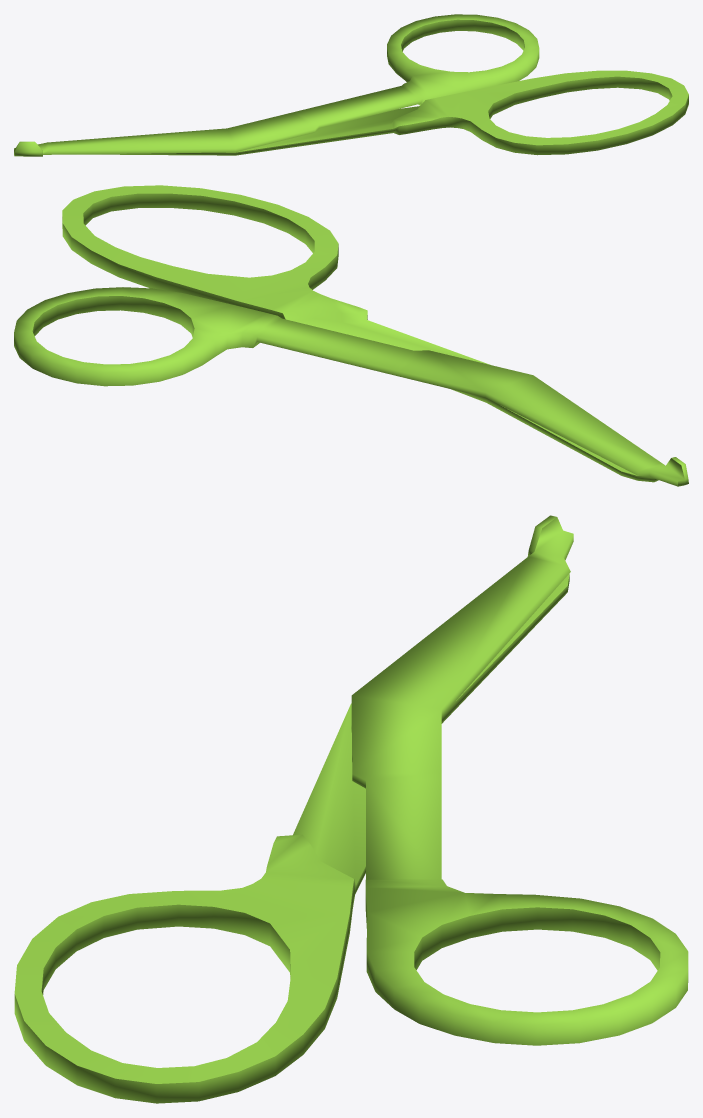
The model's file is SM_Morgue_Scissors_8.FBX.
The picture shows the model from 3 angles, top to bottom: view 1: azimuth 30°, elevation 25°; view 2: azimuth 150°, elevation 25°; view 3: azimuth 270°, elevation 25°; orthographic projection. The views are drawn at different scales.
Parts seen in each view (by area): view 1: Morgue_Scissors_8_element_1, Morgue_Scissors_8_element_2; view 2: Morgue_Scissors_8_element_1, Morgue_Scissors_8_element_2; view 3: Morgue_Scissors_8_element_1, Morgue_Scissors_8_element_2.
Part boxes in pixels (<box>): Morgue_Scissors_8_element_1: <box>14,14,539,156</box>; Morgue_Scissors_8_element_2: <box>77,70,688,155</box>; Morgue_Scissors_8_element_1: <box>14,287,688,486</box>; Morgue_Scissors_8_element_2: <box>62,185,658,482</box>; Morgue_Scissors_8_element_1: <box>351,515,688,1045</box>; Morgue_Scissors_8_element_2: <box>14,573,569,1103</box>.
Bounding box in the file's own units: 14.25 × 0.4587 × 7.29.
